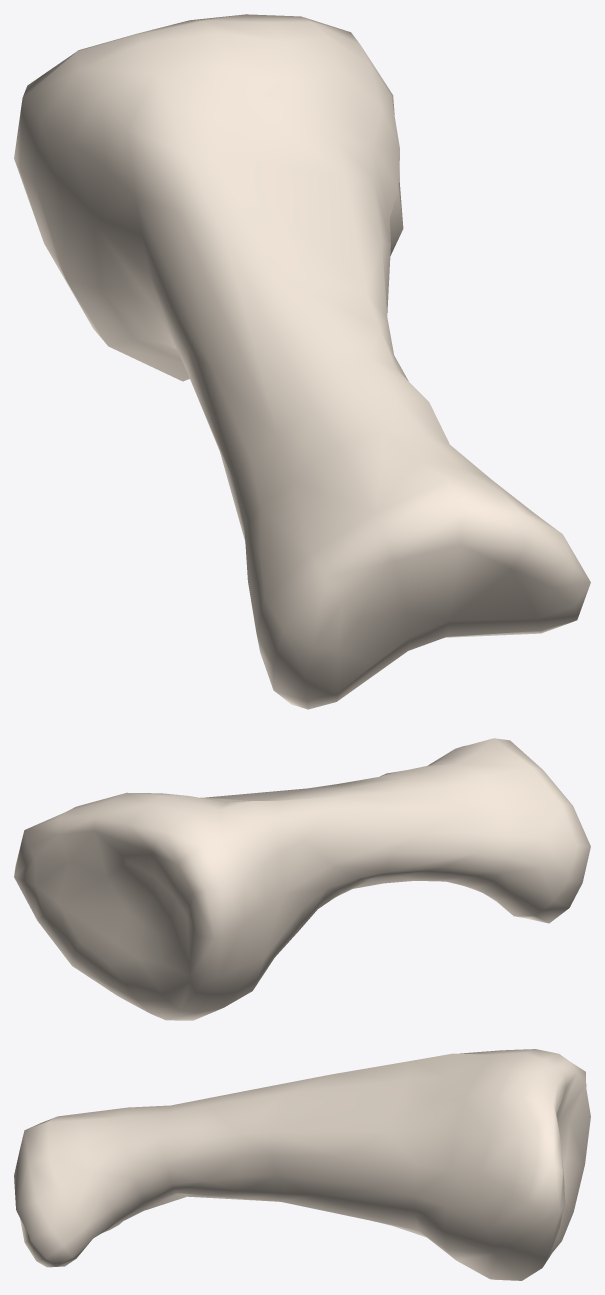
File: right_toe_2_proximal.glb
The picture shows the model from 3 angles, top to bottom: view 1: azimuth 30°, elevation 25°; view 2: azimuth 150°, elevation 25°; view 3: azimuth 270°, elevation 25°; orthographic projection. The views are drawn at different scales.
Parts seen in each view (by area): view 1: Proximal phalanx of second finger of foot.r; view 2: Proximal phalanx of second finger of foot.r; view 3: Proximal phalanx of second finger of foot.r.
Boxes of the visible parts, x1,y1,x2,y2 form: Proximal phalanx of second finger of foot.r: (14,14,590,709); Proximal phalanx of second finger of foot.r: (14,738,590,1020); Proximal phalanx of second finger of foot.r: (14,1049,590,1280).
Bounding box in the file's own units: 0.0174 × 0.0127 × 0.0285.
